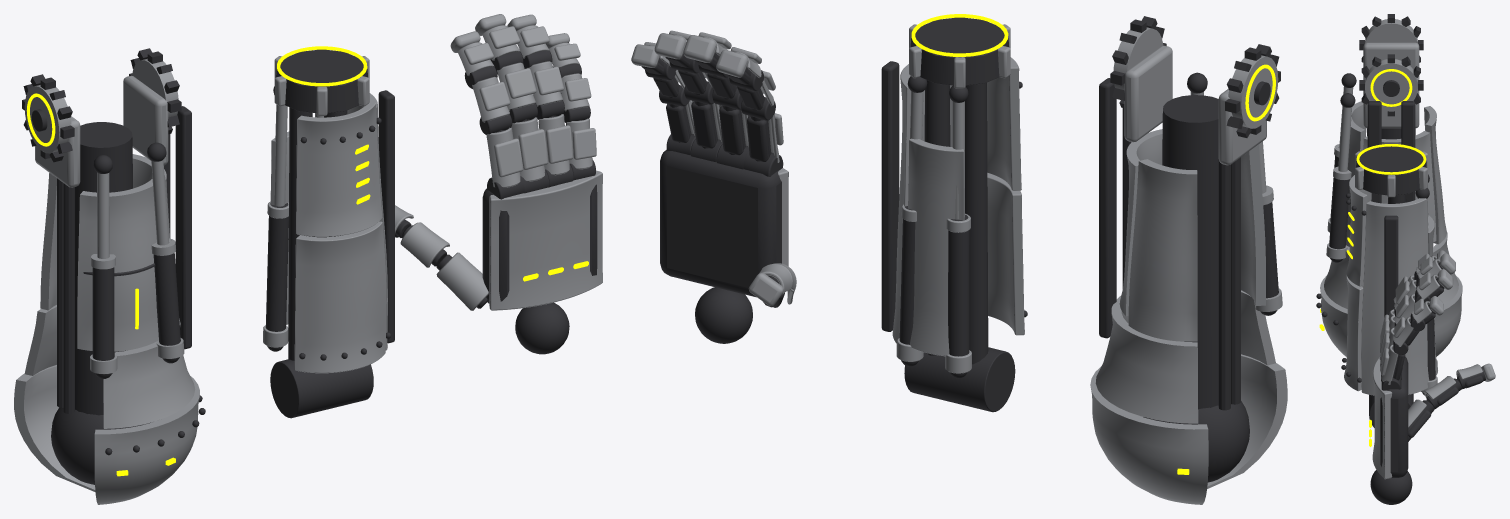
File: arm-titan.glb
3 views of the same model, side by side, from view 1: azimuth 30°, elevation 25°; view 2: azimuth 150°, elevation 25°; view 3: azimuth 270°, elevation 25° (orthographic). The views are drawn at different scales.
Visible parts, largest first — view 1: UpperArm, Forearm, Hand, Index1, Middle1, Thumb1, Ring1, Index2, Middle2, Middle3, Index3, Ring2 (+5 smaller); view 2: UpperArm, Forearm, Hand, Index1, Middle1, Ring1, Index3, Middle3, Pinky1, Thumb3, Index2, Ring3 (+4 smaller); view 3: UpperArm, Forearm, Hand, Pinky1, Ring3, Pinky3, Thumb2, Thumb3, Thumb1, Pinky2, Middle3, Ring2 (+3 smaller).
Part boxes in pixels (x1=…): UpperArm: x1=14, y1=48, x2=205, y2=504; Forearm: x1=263, y1=46, x2=394, y2=418; Hand: x1=482, y1=170, x2=602, y2=354; Index1: x1=486, y1=127, x2=524, y2=199; Middle1: x1=511, y1=117, x2=549, y2=193; Thumb1: x1=436, y1=252, x2=488, y2=310; Ring1: x1=538, y1=114, x2=573, y2=187; Index2: x1=472, y1=76, x2=512, y2=134; Middle2: x1=497, y1=62, x2=537, y2=123; Middle3: x1=475, y1=14, x2=523, y2=74; Index3: x1=450, y1=31, x2=497, y2=88; Ring2: x1=527, y1=61, x2=564, y2=119; UpperArm: x1=1090, y1=16, x2=1287, y2=504; Forearm: x1=881, y1=14, x2=1027, y2=412; Hand: x1=660, y1=150, x2=788, y2=343; Index1: x1=743, y1=113, x2=783, y2=176; Middle1: x1=716, y1=105, x2=748, y2=169; Ring1: x1=690, y1=100, x2=722, y2=161; Index3: x1=716, y1=47, x2=763, y2=91; Middle3: x1=683, y1=32, x2=731, y2=77; Pinky1: x1=666, y1=100, x2=695, y2=154; Thumb3: x1=748, y1=264, x2=792, y2=306; Index2: x1=737, y1=70, x2=775, y2=120; Ring3: x1=654, y1=30, x2=699, y2=73; UpperArm: x1=1316, y1=14, x2=1462, y2=356; Forearm: x1=1341, y1=144, x2=1437, y2=427; Hand: x1=1369, y1=356, x2=1412, y2=504; Pinky1: x1=1381, y1=345, x2=1405, y2=390; Ring3: x1=1415, y1=269, x2=1453, y2=302; Pinky3: x1=1410, y1=296, x2=1443, y2=331; Thumb2: x1=1424, y1=376, x2=1461, y2=408; Thumb3: x1=1456, y1=363, x2=1495, y2=389; Thumb1: x1=1408, y1=399, x2=1434, y2=441; Pinky2: x1=1393, y1=317, x2=1419, y2=355; Middle3: x1=1416, y1=253, x2=1455, y2=288; Ring2: x1=1394, y1=294, x2=1414, y2=326.
Bounding box in the file's own units: 1.78 × 1.3 × 0.6419.
